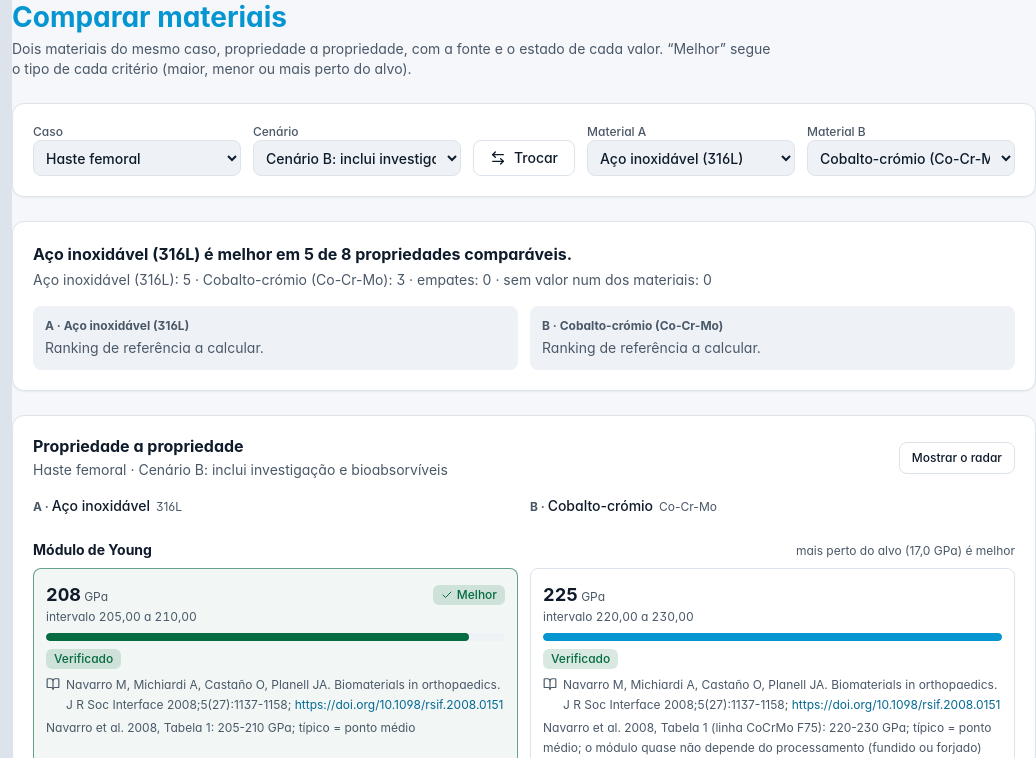
Test: componentes › ecrã: resumo, troca de materiais e ranking
expect the text "propriedades comparáveis" is shown: met, box [33,244,572,264]
Click the button with aria-label "Trocar os dois materiais": click(524, 158) [473,140,575,176]
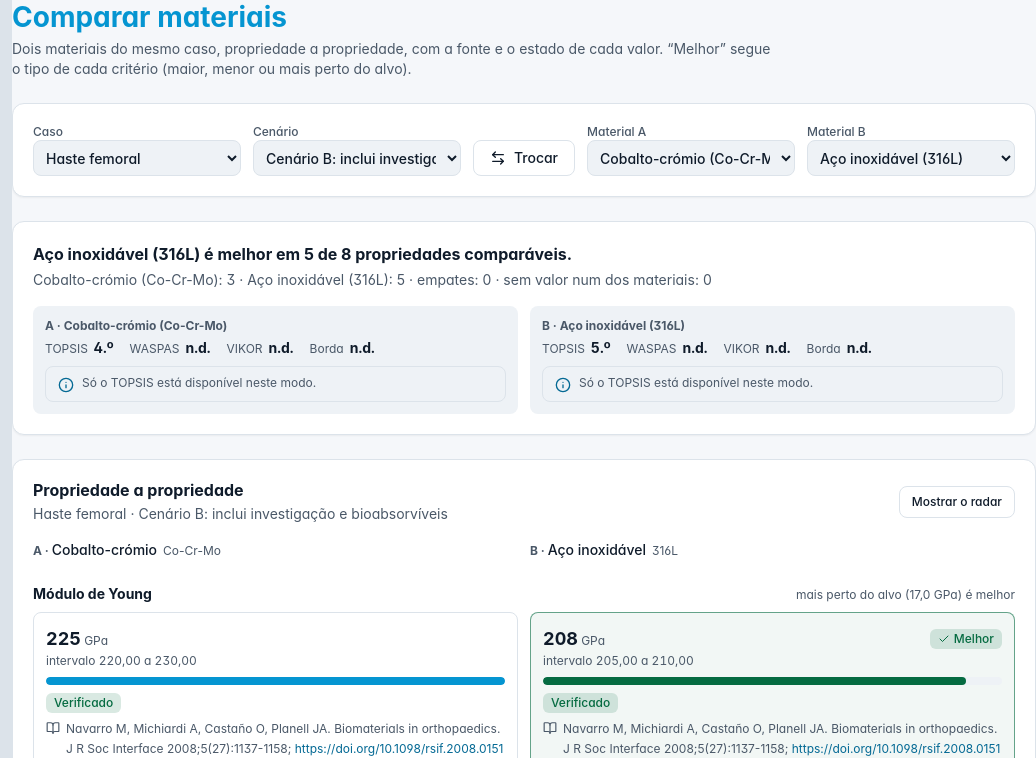
expect the dropdown labelled "Material A" shows "Cobalto-crómio (Co-Cr-Mo)": met, box [587,140,795,176]
expect the dropdown labelled "Material B" shows "Aço inoxidável (316L)": met
Select "Cobalto-crómio (Co-Cr-Mo)" in the dropdown labelled "Material B": (911, 158) [807,140,1015,176]
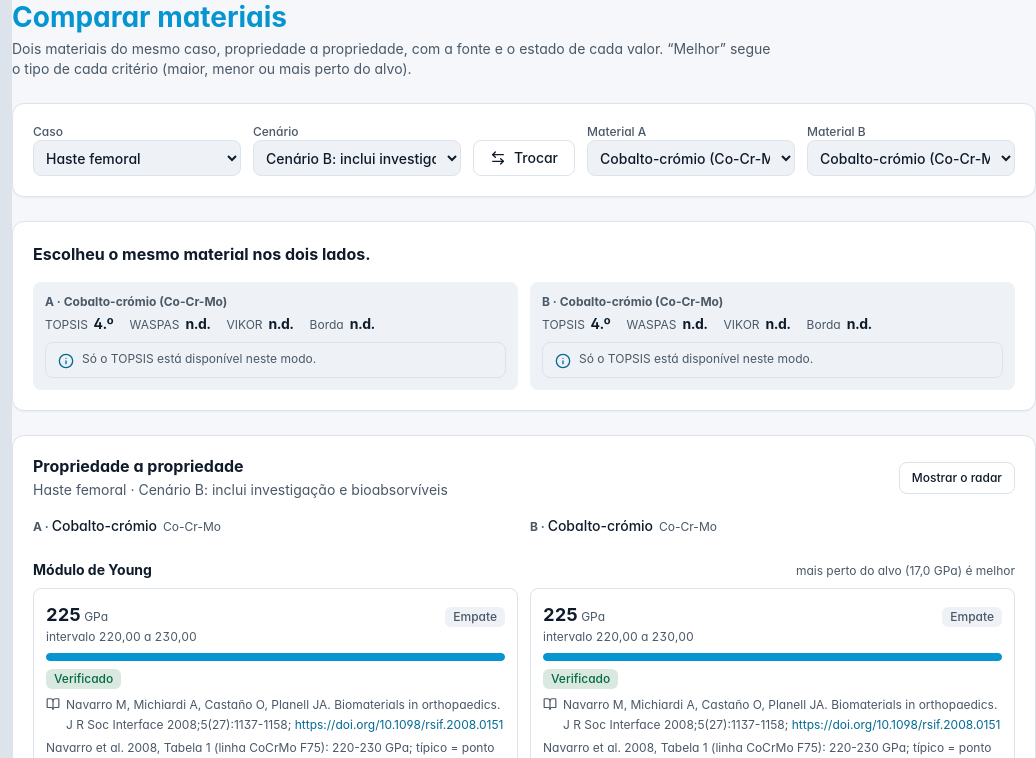
expect the text "Escolheu o mesmo material nos dois lados." is shown: met, box [33,244,371,264]
Click the button "Mostrar o radar": click(957, 478) [899,462,1015,494]
(page scrolled)
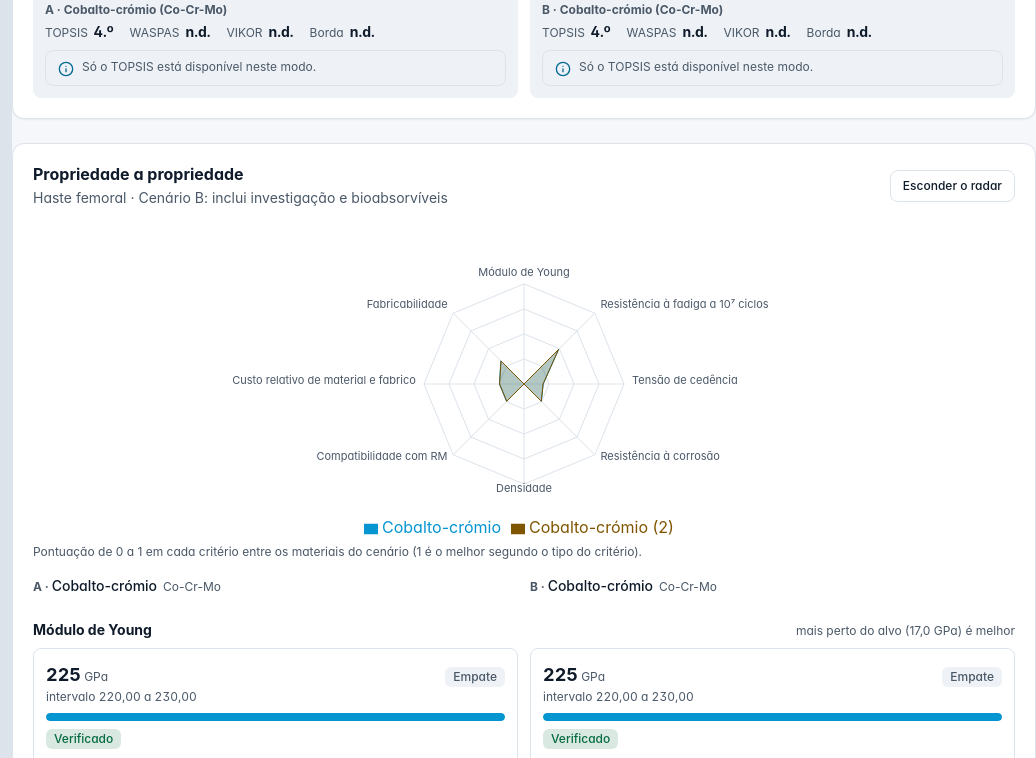
expect the picture named "Radar" is shown: met, box [33,224,1015,544]
